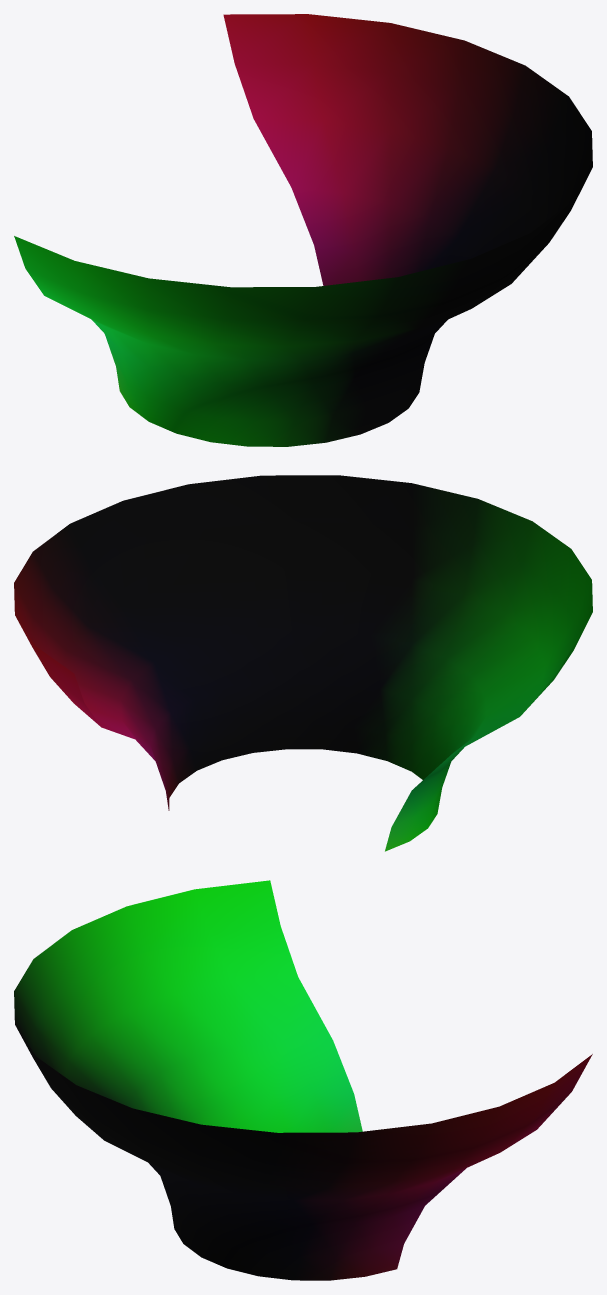
File: uni_scan.fbx
The picture shows the model from 3 angles, top to bottom: view 1: azimuth 30°, elevation 25°; view 2: azimuth 150°, elevation 25°; view 3: azimuth 270°, elevation 25°; orthographic projection. The views are drawn at different scales.
Visible parts, largest first — view 1: uni_scan; view 2: uni_scan; view 3: uni_scan.
Boxes of the visible parts, x1,y1,x2,y2 form: uni_scan: (14,14,592,446); uni_scan: (14,475,592,851); uni_scan: (14,880,592,1280).
Bounding box in the file's own units: 33112 × 34168 × 13600.
